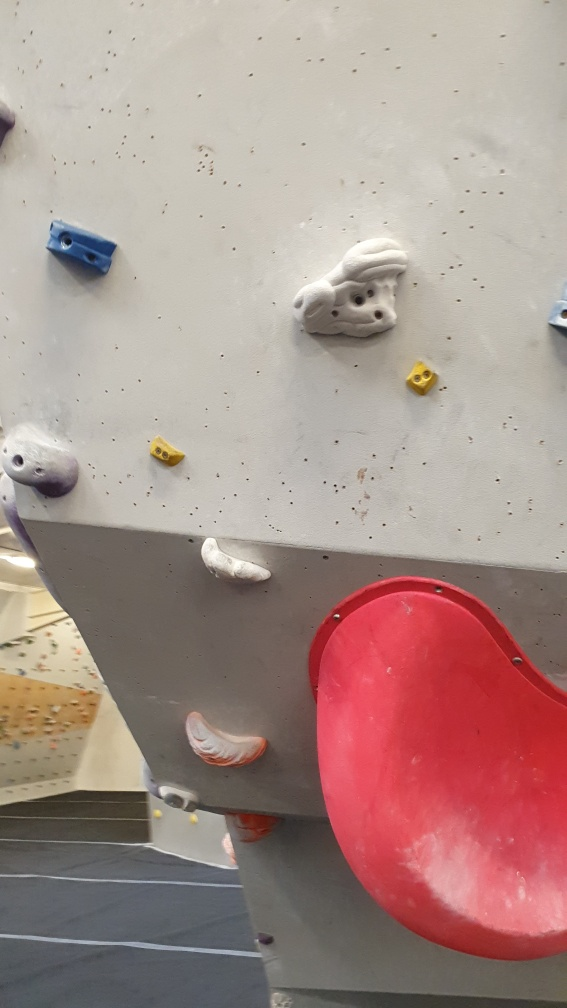Crimp: (145, 430, 193, 474)
Jug: (289, 232, 411, 347), (180, 704, 275, 771), (199, 530, 277, 596)
Pinch: (44, 216, 119, 279), (401, 359, 440, 400)
Sloper: (1, 423, 84, 501)
